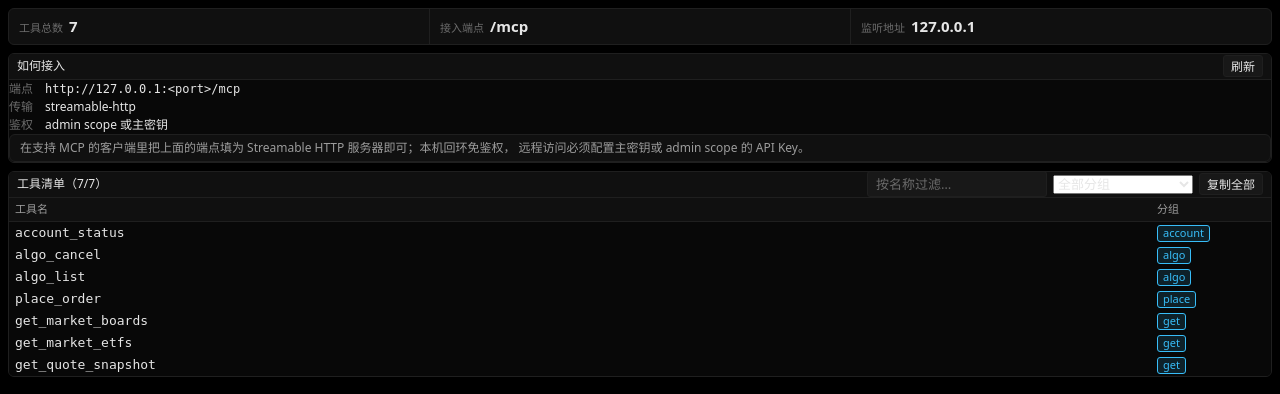
McpTools · MCP 工具浏览页 › ③ 按名称过滤生效且计数随之更新
Check: the text "工具清单（7/7）" is shown, box left=17, top=175, right=107, bottom=193
Type "algo" into the field with placeholder "按名称过滤…" at (957, 184), box left=867, top=171, right=1047, bottom=197
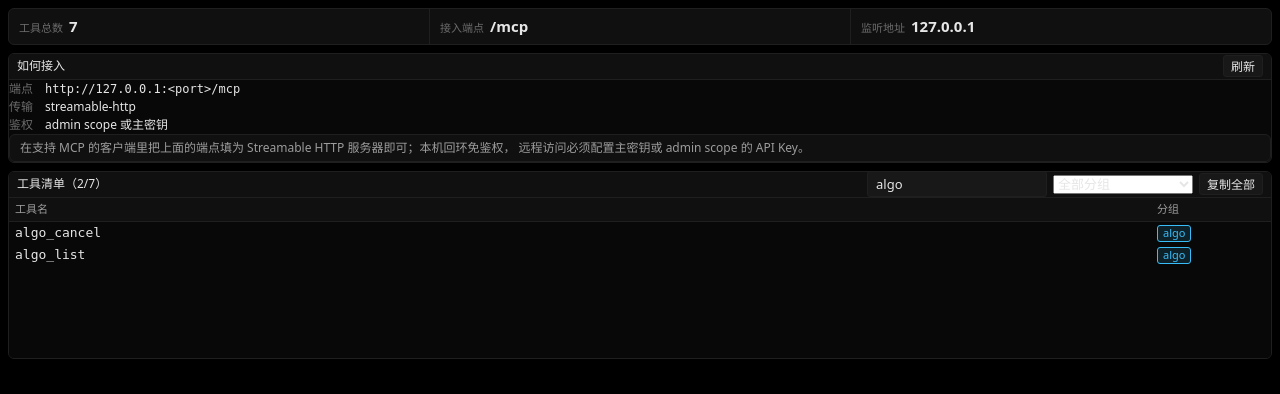
Check: the text "工具清单（2/7）" is shown, box left=17, top=175, right=107, bottom=193
